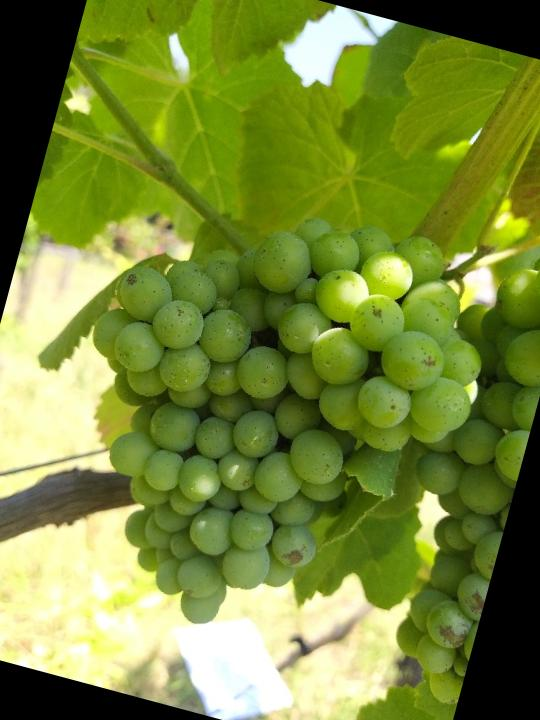grape: (24, 158, 514, 682)
